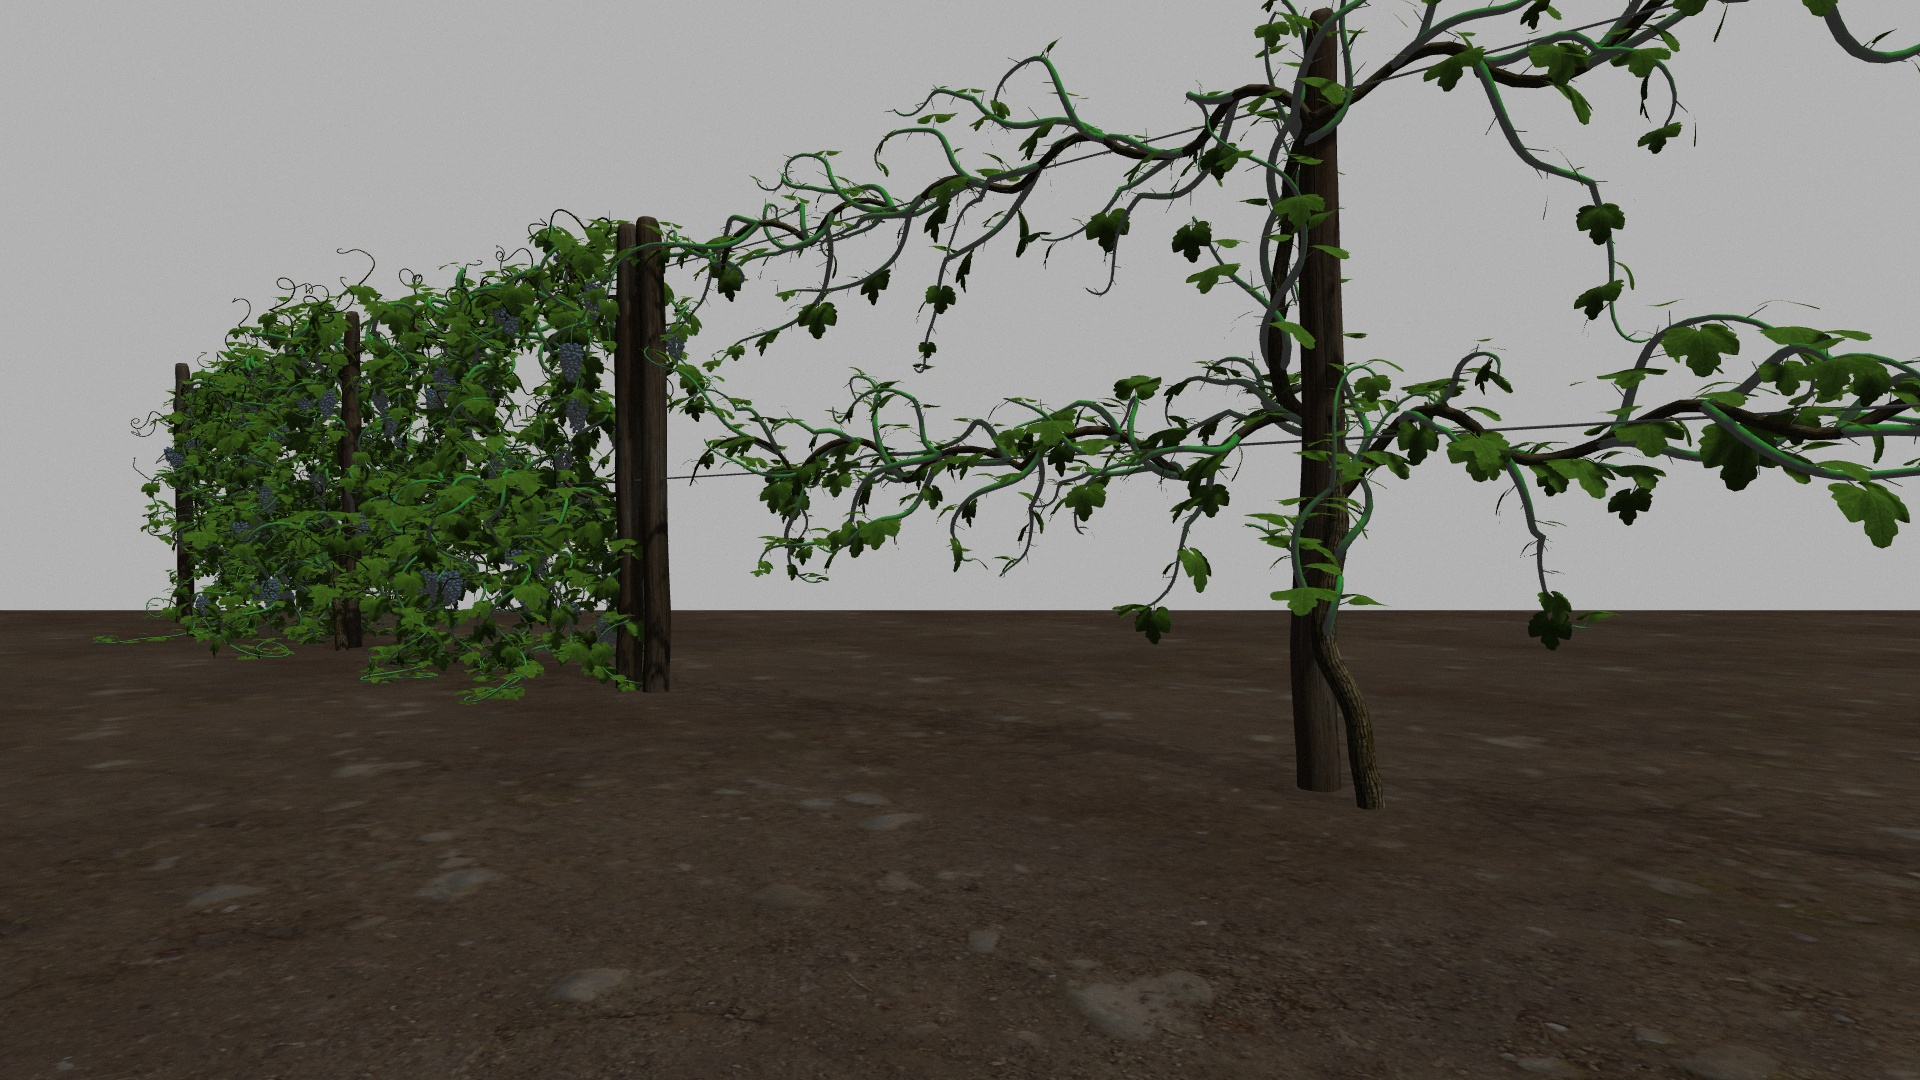grape: (559, 342, 584, 382), (417, 568, 439, 611), (566, 394, 589, 433), (442, 568, 463, 607), (434, 367, 455, 397), (596, 616, 616, 647), (666, 328, 686, 359), (258, 487, 280, 513), (319, 390, 336, 418), (262, 580, 281, 605), (381, 413, 398, 438), (372, 389, 390, 411), (425, 388, 440, 411), (502, 316, 520, 336), (195, 596, 211, 616), (171, 454, 183, 469), (164, 447, 175, 462)
